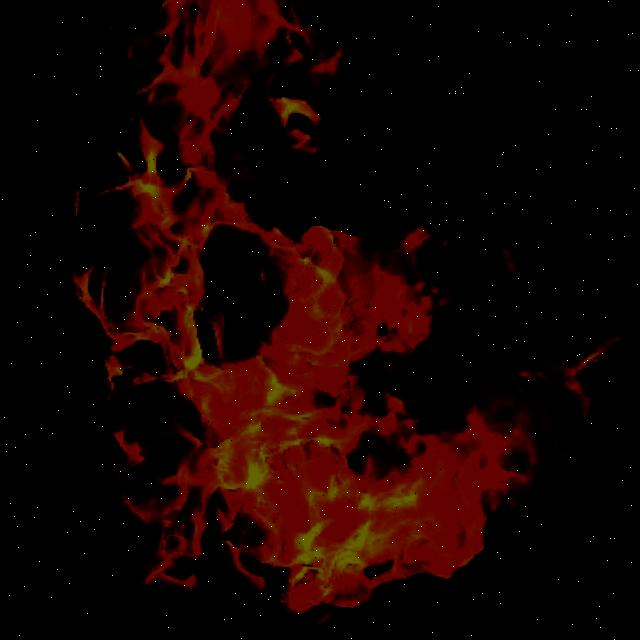Fire: (21, 0, 621, 639)
